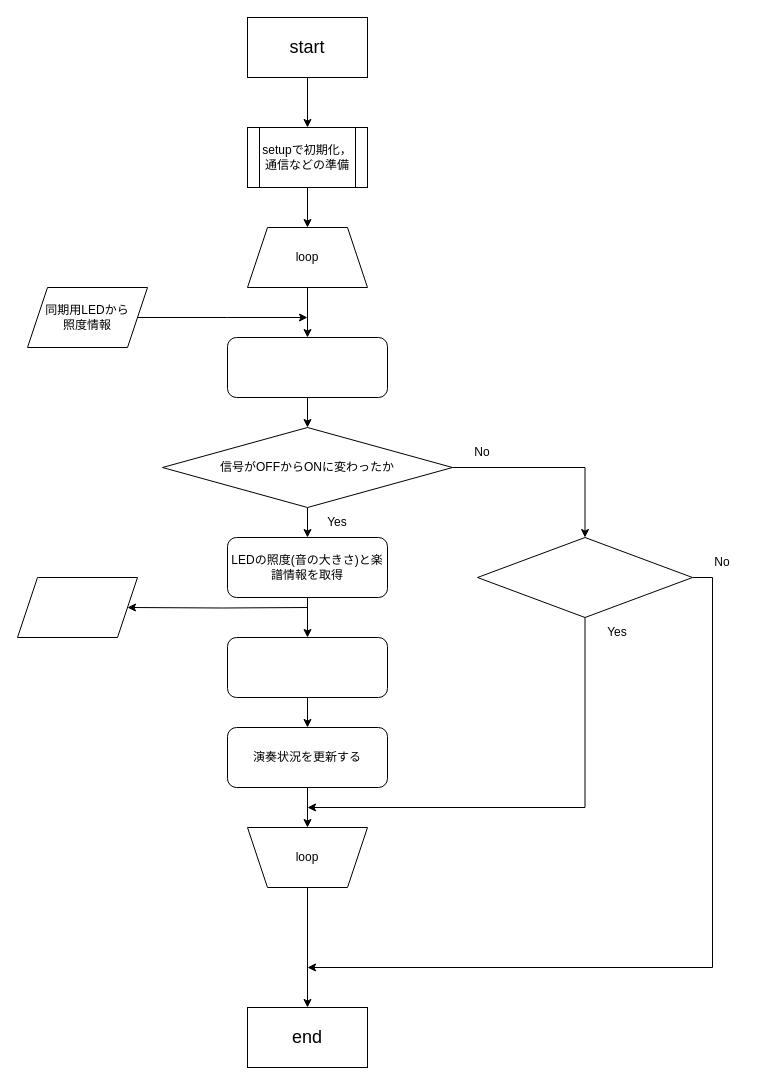
Image size: 770x1085. Some labels were removed from this diagram. The centre of each missing label's shape, as x and y in pixels:
"analogReadでテンポ用のLEDの照度を受け取る" belongs at (307,367).
"LEDMatrixの表示を切り替える" belongs at (307,667).
"Processingへ 音情報(大きさ， 長さ,高さ )" belongs at (77,607).
"指定時間以上OFFのままでないか (終了条件に達していないか)" belongs at (584,577).
